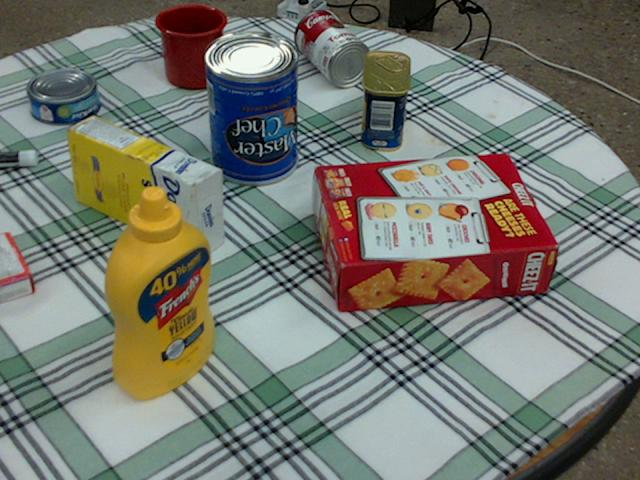cracker_box: (314, 153, 558, 312)
gelatin_box: (0, 232, 35, 302)
large_marker: (0, 149, 37, 166)
master_chef_can: (202, 31, 296, 184)
mug: (156, 4, 228, 87)
mustard_bottle: (103, 186, 213, 397)
potted_meat_can: (360, 51, 408, 150)
sugar_box: (66, 115, 222, 258)
tomato_soup_can: (294, 9, 370, 85)
tuna_fish_can: (27, 68, 100, 123)
